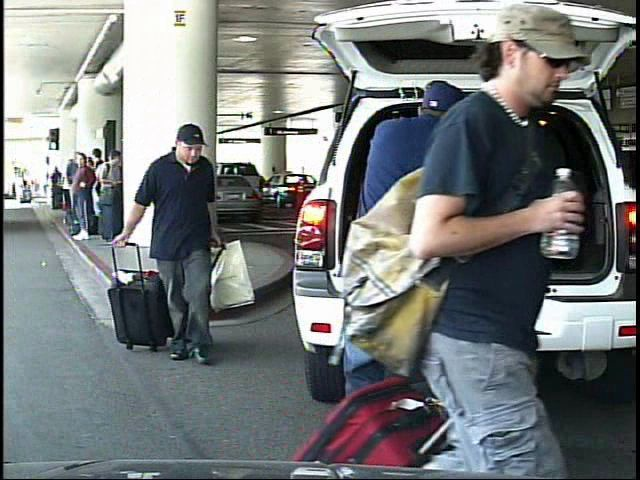person: (370, 12, 565, 476), (329, 71, 509, 475), (108, 124, 239, 371), (13, 174, 24, 204)
